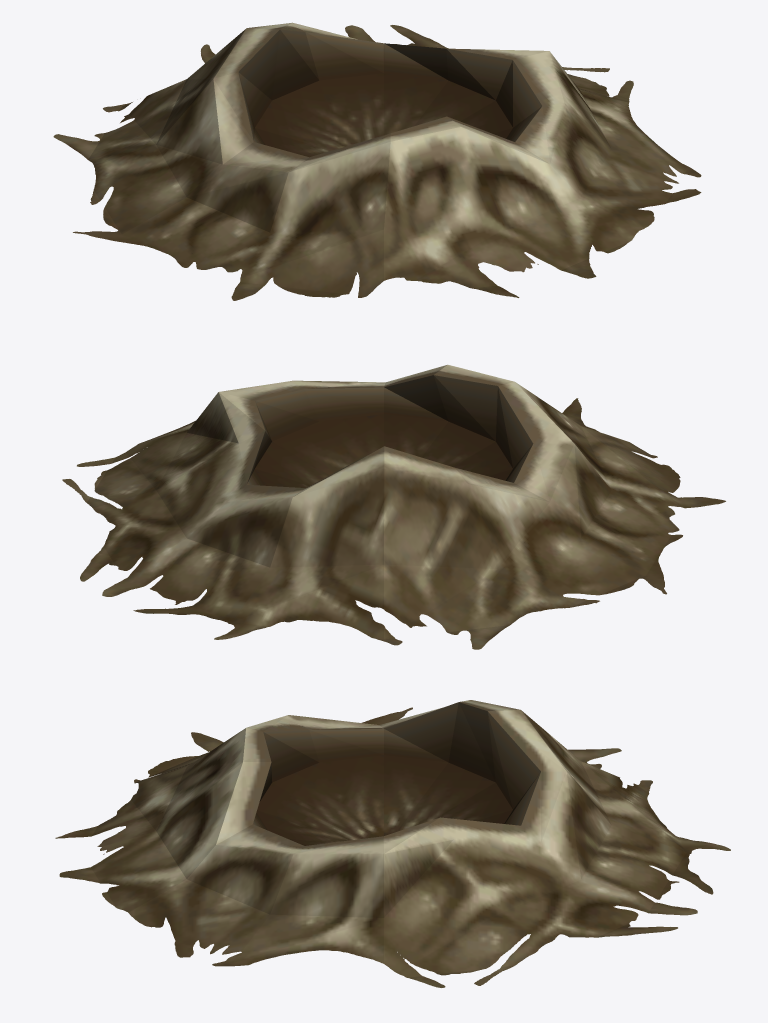
The model's file is spider_hole_01.fbx.
The picture shows the model from 3 angles, top to bottom: view 1: azimuth 30°, elevation 25°; view 2: azimuth 150°, elevation 25°; view 3: azimuth 270°, elevation 25°; orthographic projection.
Parts seen in each view (by area): view 1: obj0.353; view 2: obj0.353; view 3: obj0.353.
Boxes of the visible parts, left/top/right/bottom form: obj0.353: left=53, top=22, right=701, bottom=300; obj0.353: left=62, top=364, right=725, bottom=649; obj0.353: left=55, top=700, right=730, bottom=987.
Bounding box in the file's own units: 7.55 × 1.31 × 7.55.
